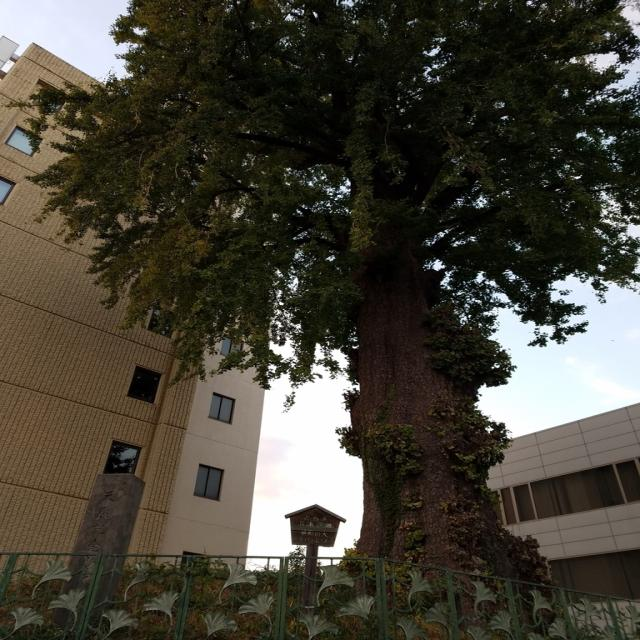ginkgo: (6, 0, 640, 587)
